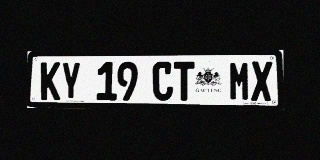1: (97, 62, 117, 100)
9: (117, 62, 138, 100)
C: (152, 62, 173, 101)
K: (41, 62, 60, 100)
M: (229, 61, 250, 101)
T: (174, 61, 194, 101)
X: (251, 61, 272, 101)
Y: (61, 62, 81, 100)
